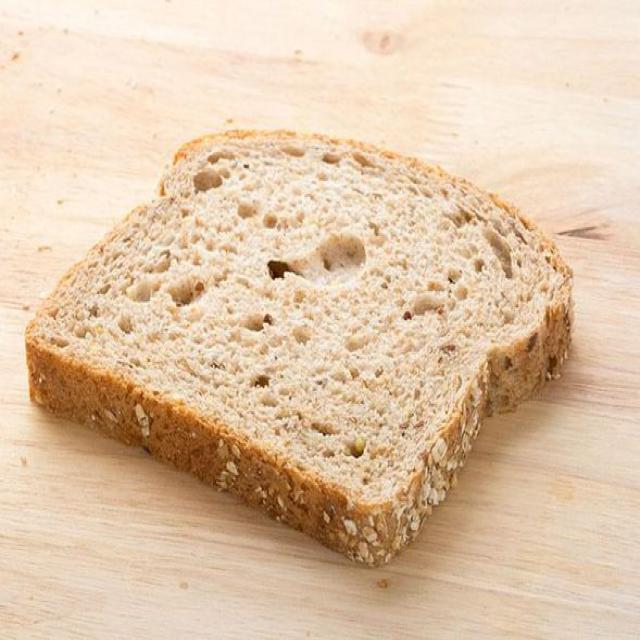Bread: (26, 126, 574, 565)
